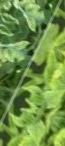Tomato leaf yellow virus: (34, 57, 65, 112), (0, 47, 19, 66), (0, 22, 16, 41), (61, 72, 65, 103), (65, 67, 65, 134)
